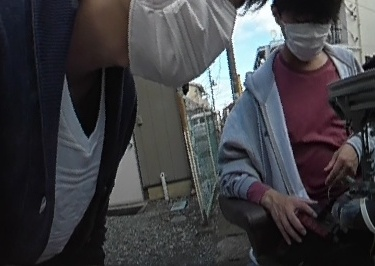person: (234, 0, 372, 243)
